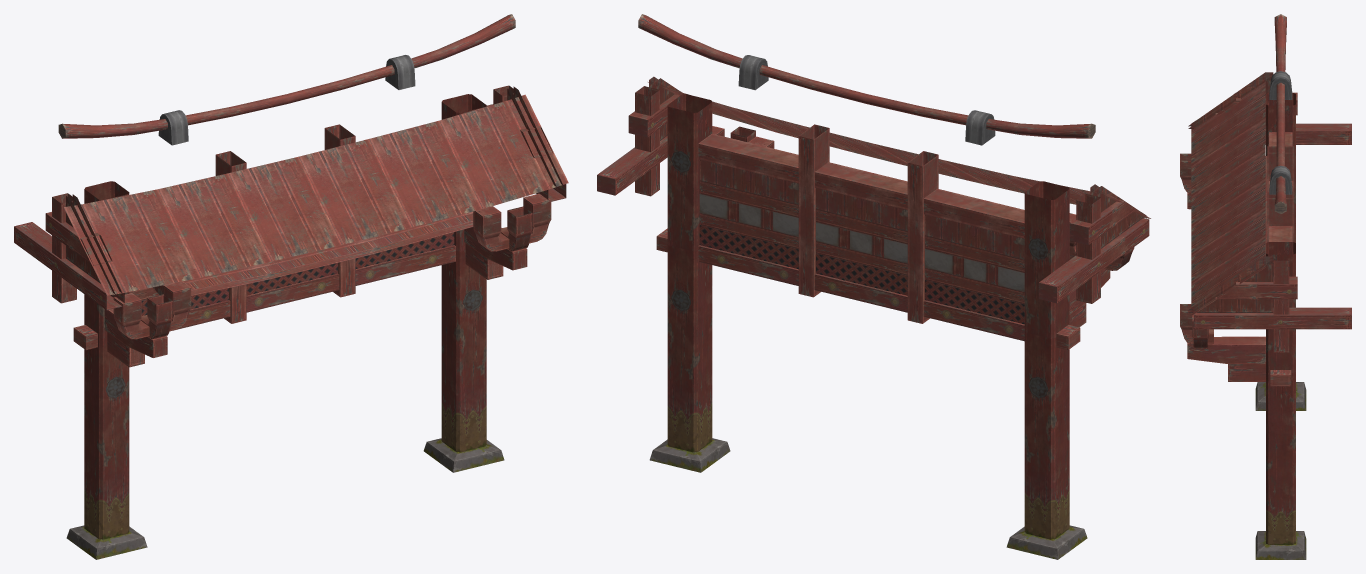
File: b_zx_yuanmen01_01.FBX
3 renders of one model, left to right at view 1: azimuth 30°, elevation 25°; view 2: azimuth 150°, elevation 25°; view 3: azimuth 270°, elevation 25°, orthographic. The views are drawn at different scales.
Parts seen in each view (by area): view 1: b_zx_yuanmen01_01; view 2: b_zx_yuanmen01_01; view 3: b_zx_yuanmen01_01.
Boxes of the visible parts, x1,y1,x2,y2 form: b_zx_yuanmen01_01: (14,14,568,559); b_zx_yuanmen01_01: (597,14,1150,559); b_zx_yuanmen01_01: (1180,14,1351,559).
Bounding box in the file's own units: 8.46 × 7.52 × 3.18.
